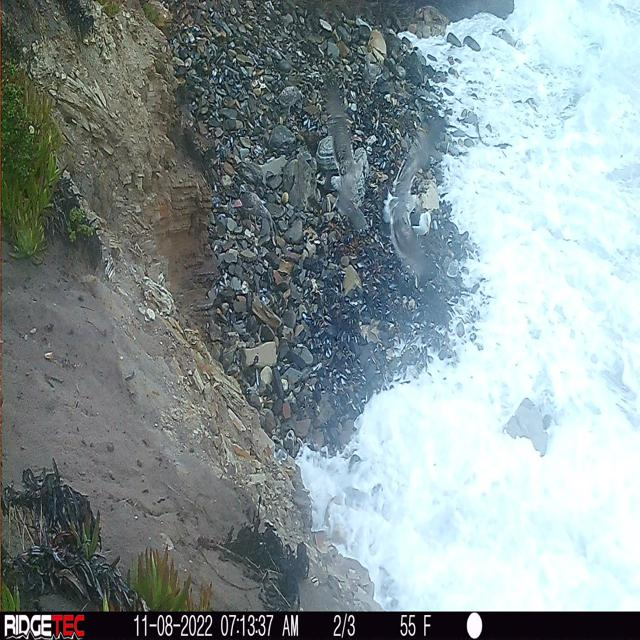bird: (320, 138, 365, 228)
